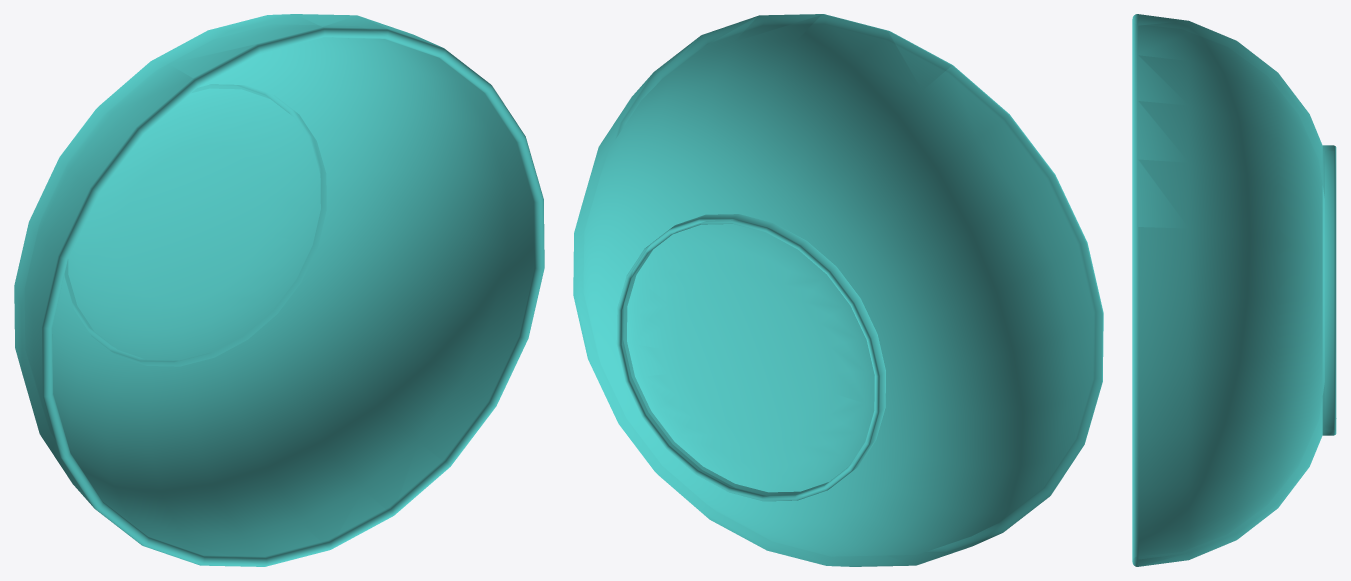
Rendered from model_align.obj.
3 renders of one model, left to right at view 1: azimuth 30°, elevation 25°; view 2: azimuth 150°, elevation 25°; view 3: azimuth 270°, elevation 25°, orthographic. The views are drawn at different scales.
Parts seen in each view (by area): view 1: mesh1_mesh1-geometry; view 2: mesh1_mesh1-geometry; view 3: mesh1_mesh1-geometry.
Boxes of the visible parts, x1,y1,x2,y2 form: mesh1_mesh1-geometry: (14,14,544,566); mesh1_mesh1-geometry: (573,14,1103,566); mesh1_mesh1-geometry: (1132,14,1336,566).
Bounding box in the file's own units: 0.1513 × 0.1513 × 0.0562.
